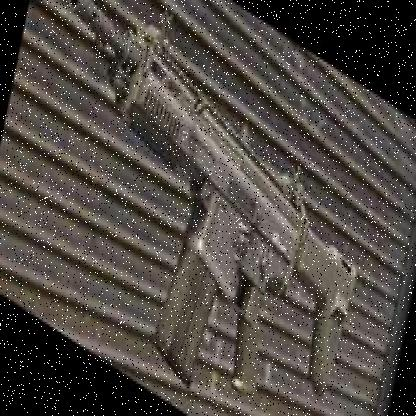rifle: (11, 0, 388, 416)
